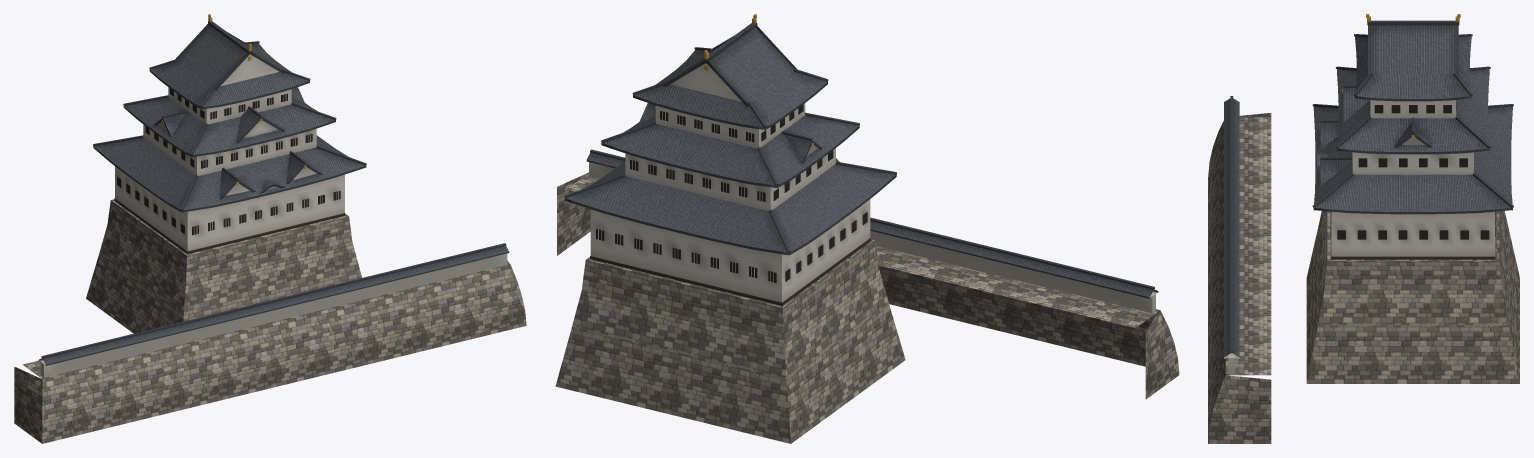
The model's file is keep.glb.
The picture shows the model from 3 angles, left to right: view 1: azimuth 30°, elevation 25°; view 2: azimuth 150°, elevation 25°; view 3: azimuth 270°, elevation 25°; orthographic projection. The views are drawn at different scales.
Visible parts, largest first — view 1: keep_stone, keep_tile, keep_plaster, keep_ridge, keep_window, keep_wood; view 2: keep_stone, keep_tile, keep_plaster, keep_ridge, keep_window, keep_wood; view 3: keep_stone, keep_tile, keep_plaster, keep_ridge, keep_window, keep_wood.
Part boxes in pixels (left/top/right/bottom): keep_stone: left=14, top=199, right=526, bottom=443; keep_tile: left=40, top=25, right=508, bottom=364; keep_plaster: left=40, top=54, right=507, bottom=377; keep_ridge: left=38, top=21, right=509, bottom=365; keep_window: left=117, top=88, right=340, bottom=235; keep_wood: left=114, top=198, right=345, bottom=253; keep_stone: left=555, top=172, right=1179, bottom=443; keep_tile: left=566, top=27, right=1157, bottom=297; keep_plaster: left=589, top=63, right=1155, bottom=313; keep_ridge: left=564, top=22, right=1158, bottom=298; keep_window: left=596, top=104, right=867, bottom=282; keep_wood: left=590, top=238, right=870, bottom=305; keep_stone: left=1208, top=113, right=1519, bottom=443; keep_tile: left=1224, top=25, right=1512, bottom=356; keep_plaster: left=1228, top=100, right=1495, bottom=373; keep_ridge: left=1230, top=20, right=1513, bottom=352; keep_window: left=1330, top=100, right=1495, bottom=239; keep_wood: left=1331, top=237, right=1495, bottom=259.
Size of the model in its own units: 80 by 44.21 by 39.5.
5 materials, 2 textured.
